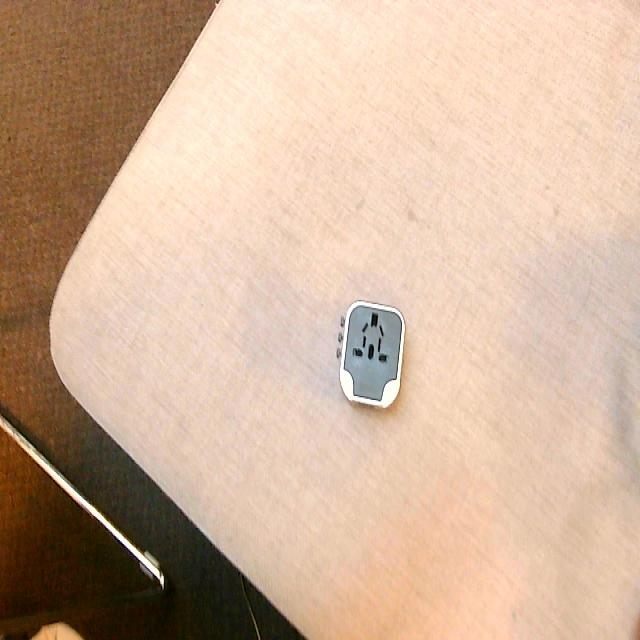adapter: (336, 299, 405, 408)
